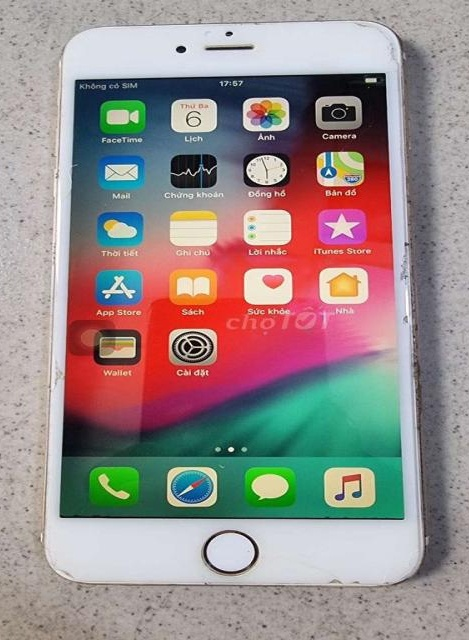physical_damage: (387, 227, 418, 359), (289, 561, 396, 594), (348, 8, 409, 64), (46, 344, 73, 411)
